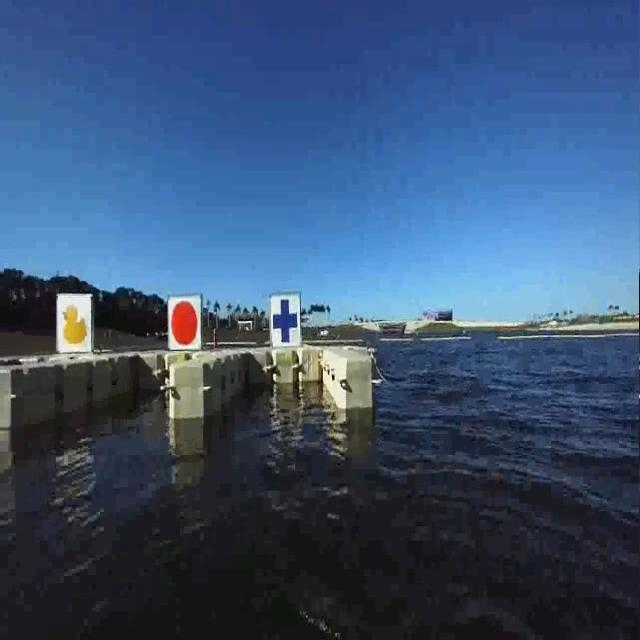blue-cross: (270, 292, 304, 348)
red-dot: (169, 291, 204, 354)
yellow-duck: (55, 291, 91, 357)
